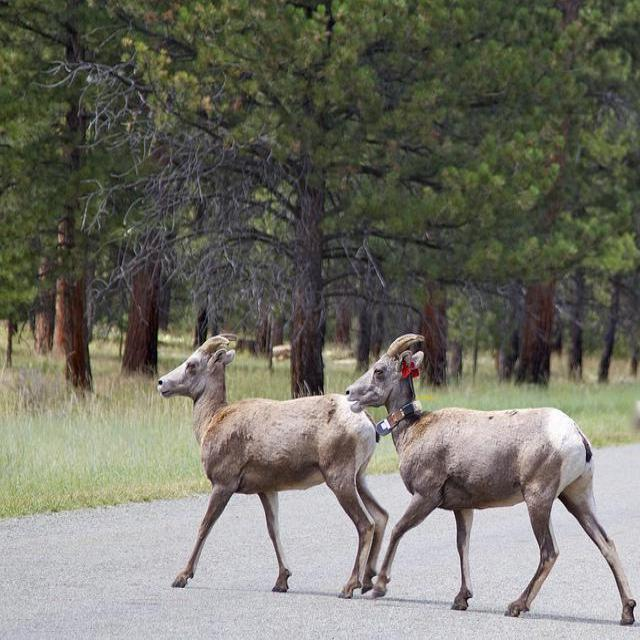Sheep: (346, 330, 638, 627), (156, 334, 390, 599)
